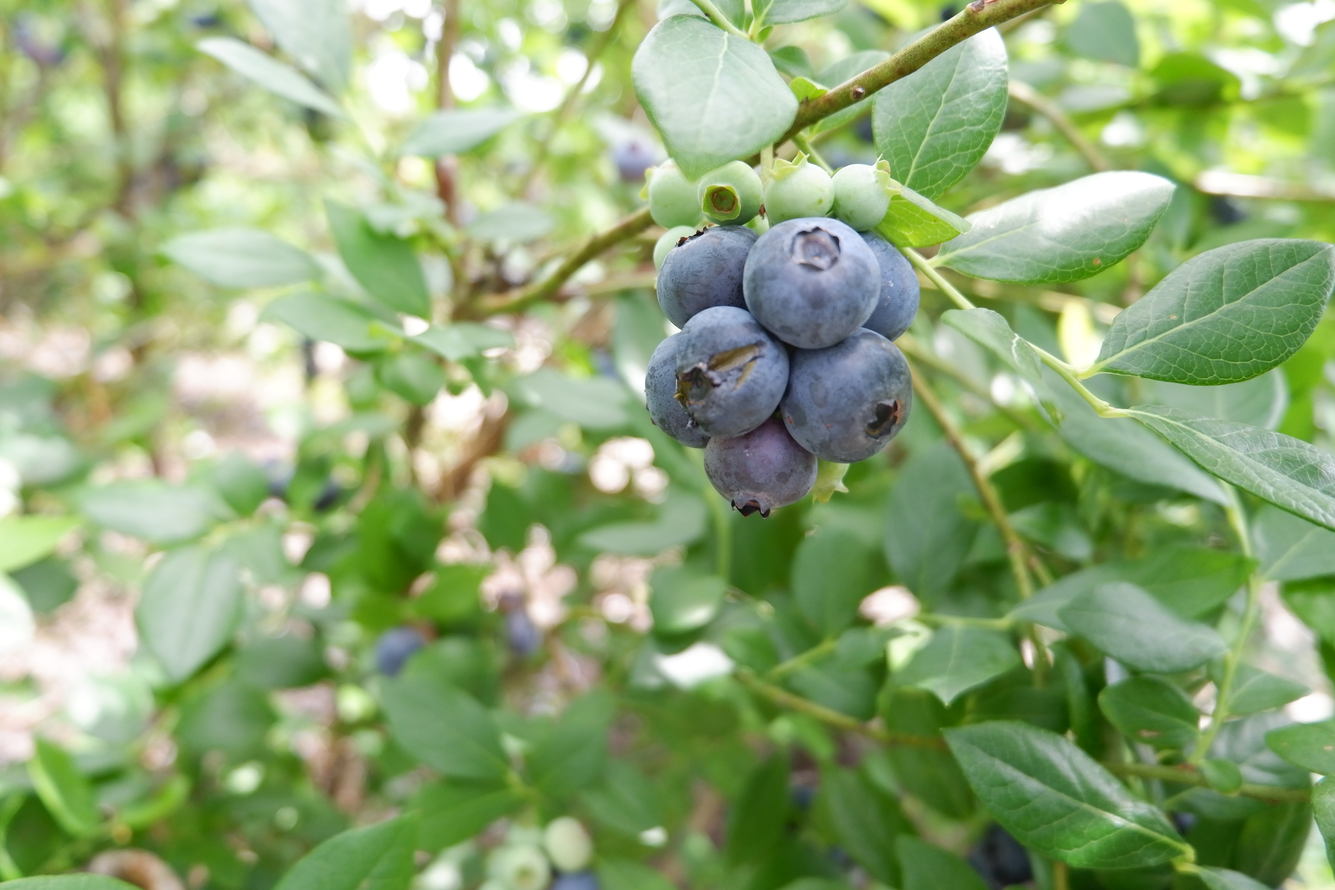Immature: (766, 151, 835, 223), (647, 160, 704, 226), (835, 163, 891, 229), (701, 163, 762, 222), (656, 226, 696, 274), (814, 459, 849, 500)
Mature: (743, 220, 880, 346), (784, 330, 908, 462), (672, 308, 786, 434), (704, 413, 815, 512), (658, 227, 756, 327), (646, 335, 708, 443), (863, 234, 918, 337)
